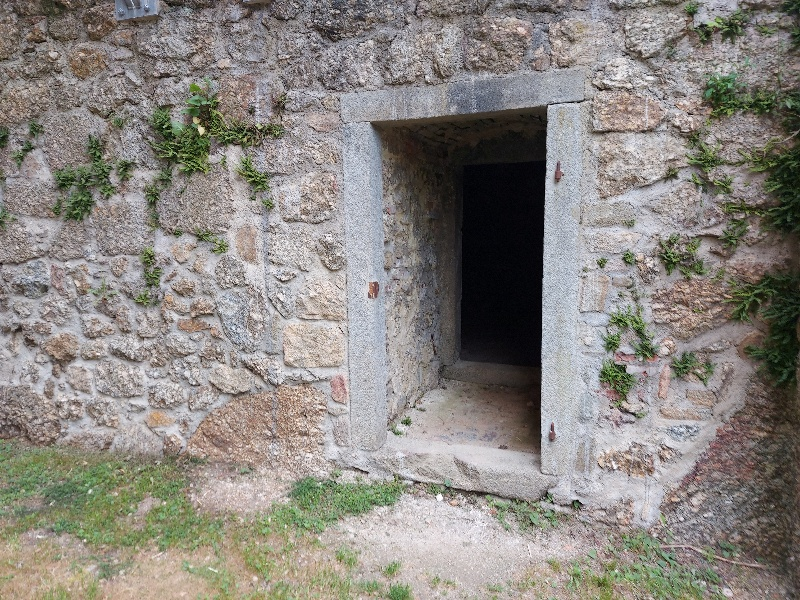door1: (331, 74, 602, 522)
